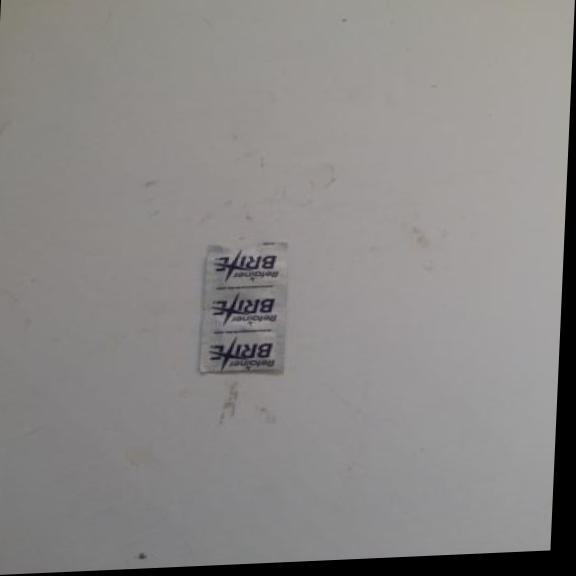Plastik: (190, 230, 303, 388)
